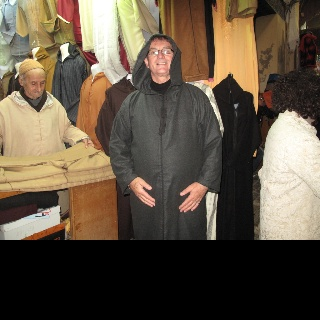without_mask: (149, 37, 173, 73), (22, 69, 45, 97)
